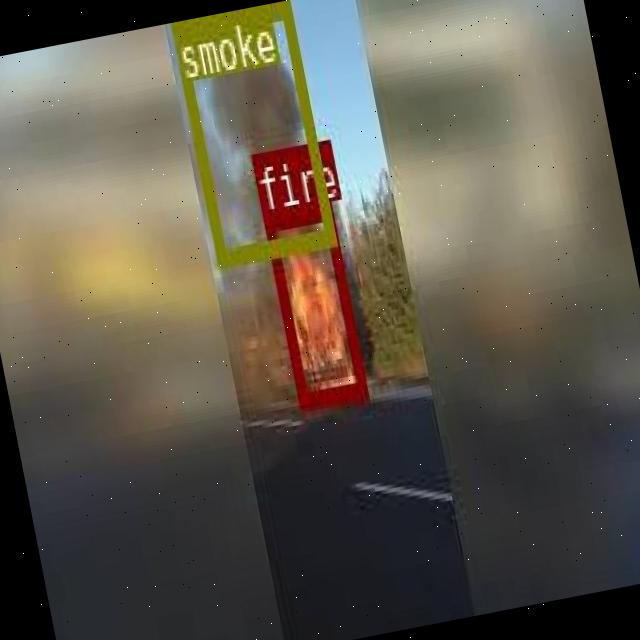fire: (261, 202, 366, 409)
smoke: (170, 0, 336, 266)
